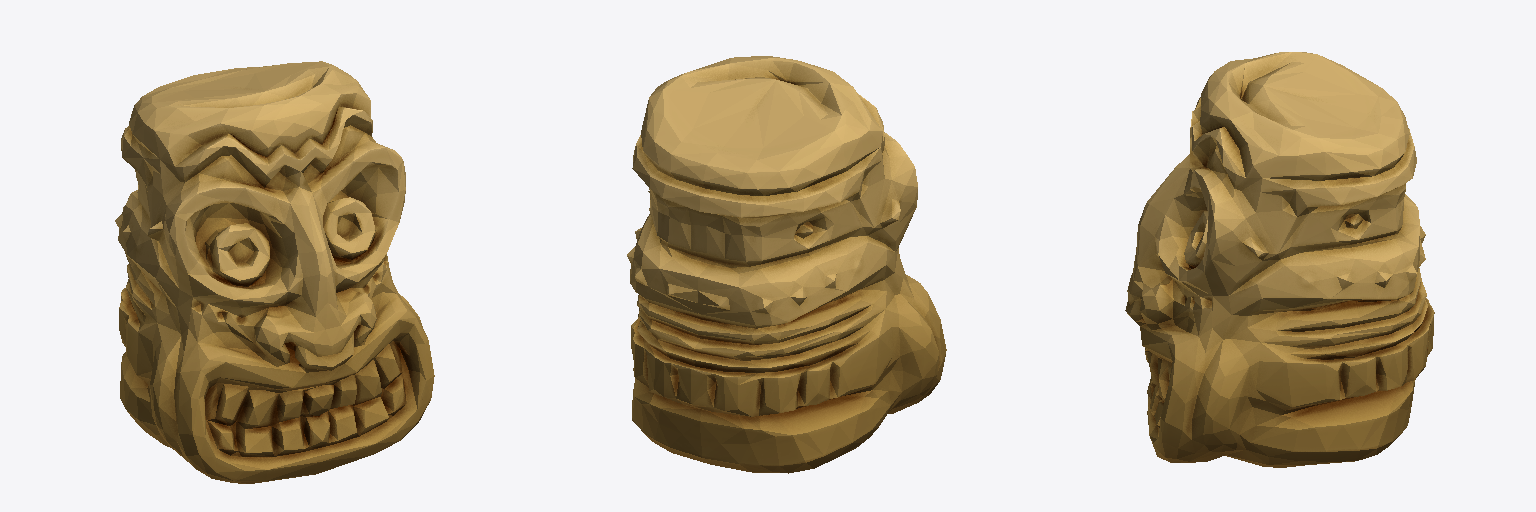
3 renders of one model, left to right at view 1: azimuth 30°, elevation 25°; view 2: azimuth 150°, elevation 25°; view 3: azimuth 270°, elevation 25°, orthographic.
Parts seen in each view (by area): view 1: PBR_-_Metallic_Roughness; view 2: PBR_-_Metallic_Roughness; view 3: PBR_-_Metallic_Roughness.
Part boxes in pixels (x1,y1,x2,y2): PBR_-_Metallic_Roughness: (115,61,434,483); PBR_-_Metallic_Roughness: (627,56,946,473); PBR_-_Metallic_Roughness: (1125,52,1434,467).
Size of the model in its own units: 20.16 by 24.91 by 19.97.
1 materials, 1 textured.